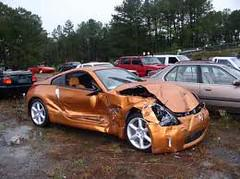Headlight-Damage: (148, 102, 183, 126)
bonnet-dent: (146, 79, 203, 113)
doorouter-dent: (58, 91, 103, 126)
fender-dent: (106, 95, 147, 127)
front-bumper-dent: (167, 116, 215, 152)
quaterpanel-dent: (27, 87, 58, 109)
